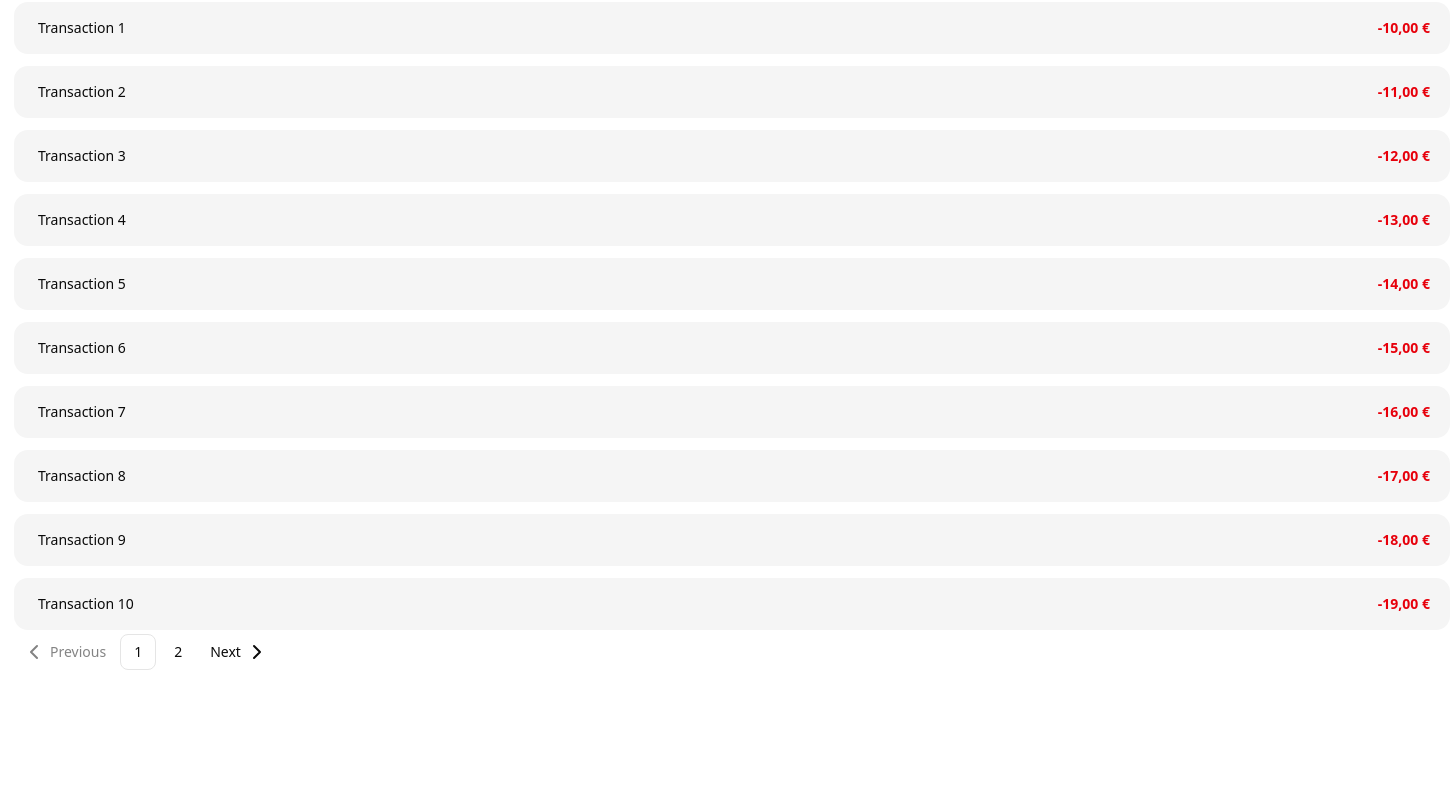
Scenario: TransactionList › pagination › navigating back to page 1 shows the first set of transactions
Check: the text "Transaction 1" is shown, box [38, 18, 126, 38]
Step 1. Click the button with aria-label "Go to next page" → (239,652), box [200, 632, 279, 672]
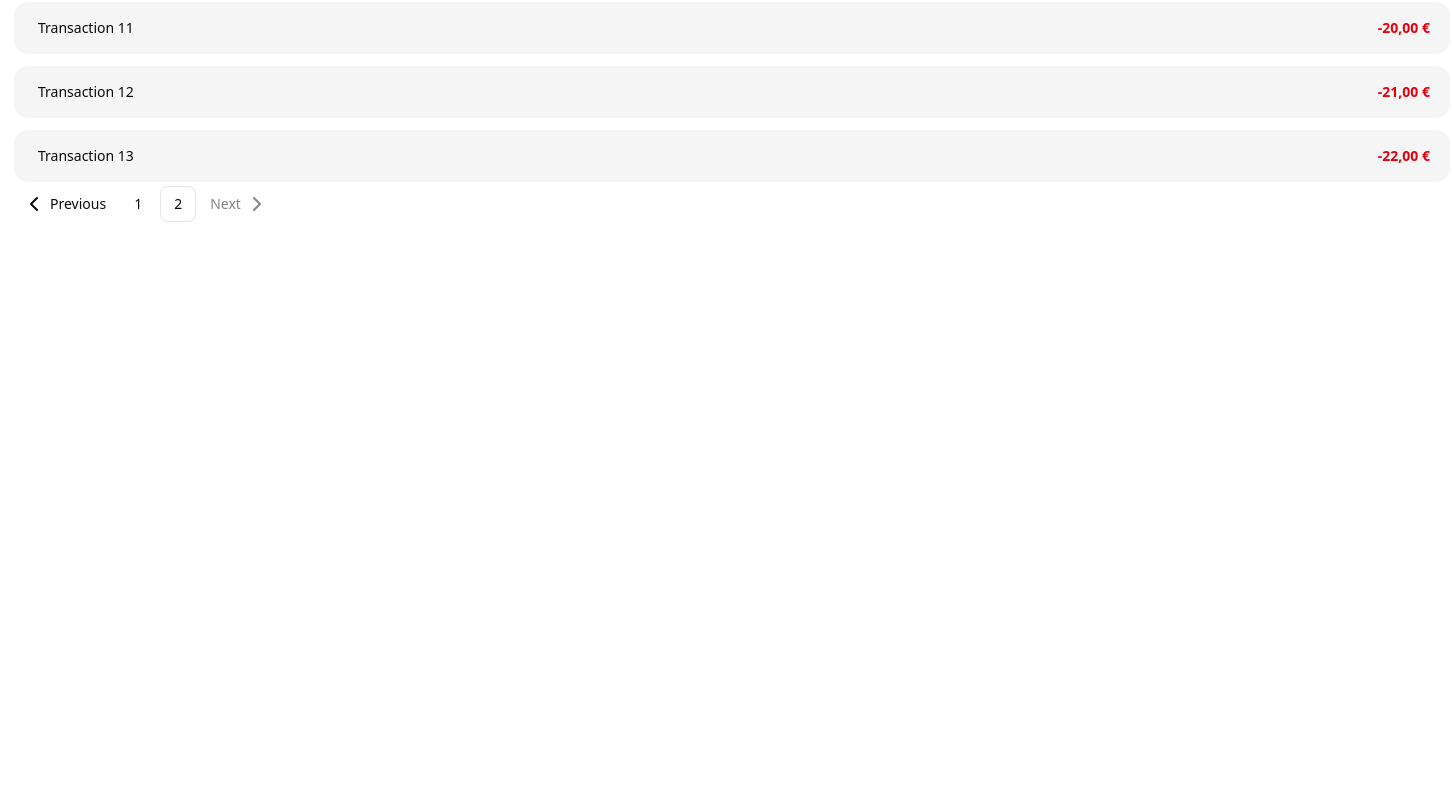
Check: the text "Transaction 11" is shown, box [38, 18, 134, 38]
Step 2. Click the button with aria-label "Go to previous page" → (64,204), box [12, 184, 116, 224]
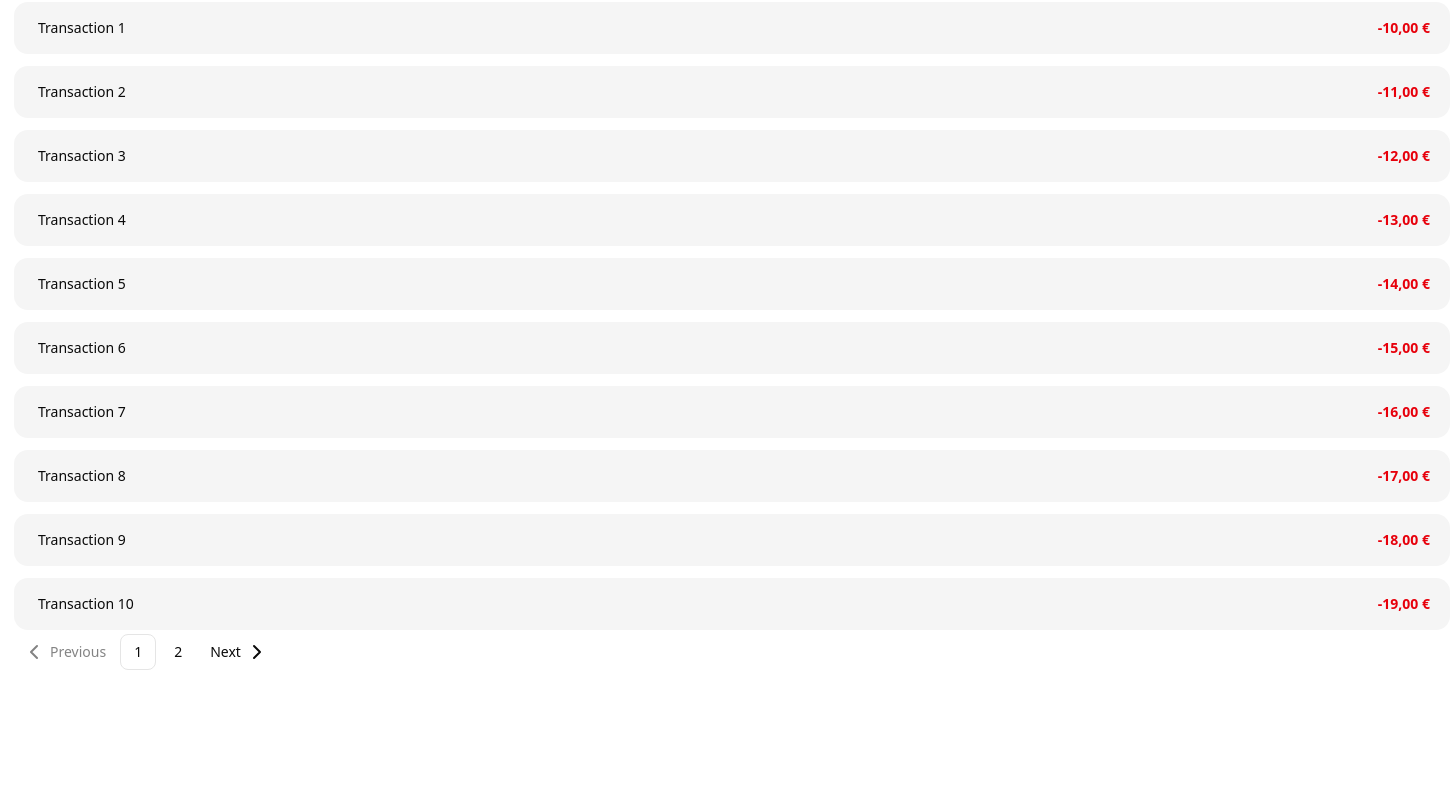
Check: the text "Transaction 1" is shown, box [38, 18, 126, 38]
Check: the text "Transaction 11" is gone
